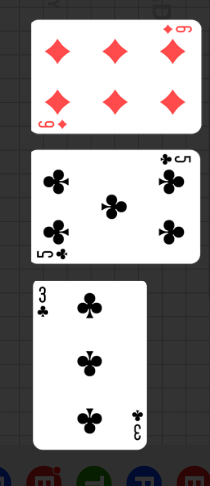3C: (129, 407, 144, 442)
5C: (35, 246, 70, 261)
6D: (160, 24, 193, 36)
